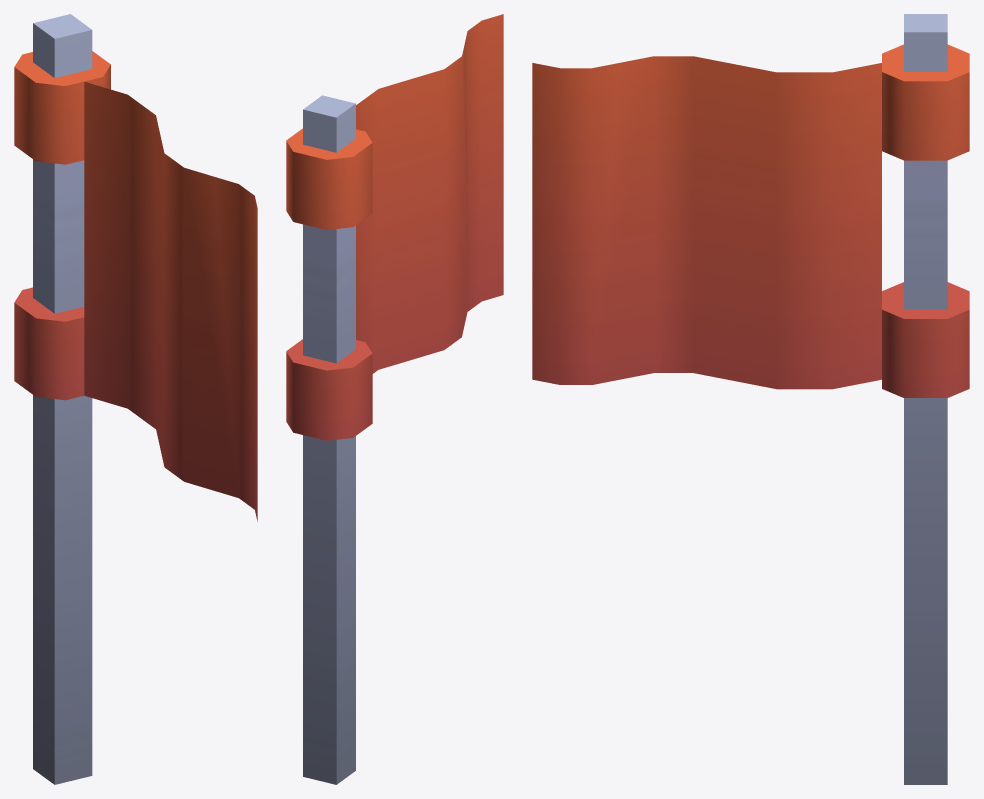
Rendered from kenney-prototype-flag.glb.
3 renders of one model, left to right at view 1: azimuth 30°, elevation 25°; view 2: azimuth 150°, elevation 25°; view 3: azimuth 270°, elevation 25°, orthographic. The views are drawn at different scales.
Visible parts, largest first — view 1: flag; view 2: flag; view 3: flag.
Part boxes in pixels (x1,y1,x2,y2): flag: (14, 14, 257, 784); flag: (286, 14, 503, 784); flag: (532, 14, 969, 784).
Bounding box in the file's own units: 0.1 × 0.95 × 0.5.
Materials: 1 (1 with a texture image).
